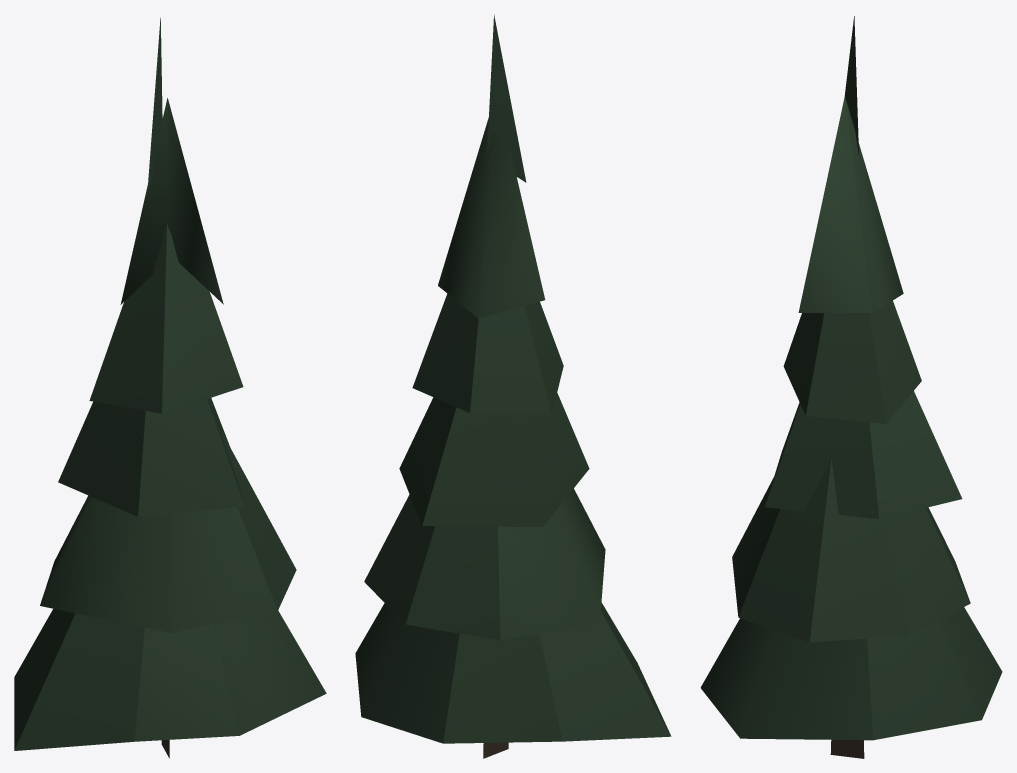
The model's file is conifer_a_LOD1.glb.
The picture shows the model from 3 angles, left to right: view 1: azimuth 30°, elevation 25°; view 2: azimuth 150°, elevation 25°; view 3: azimuth 270°, elevation 25°; orthographic projection.
Parts seen in each view (by area): view 1: Body_LOD1; view 2: Body_LOD1; view 3: Body_LOD1.
Boxes of the visible parts, x1,y1,x2,y2 form: Body_LOD1: (14,17,326,758); Body_LOD1: (355,14,671,758); Body_LOD1: (700,16,1002,758).
Size of the model in its own units: 5.28 by 12.85 by 4.74.
